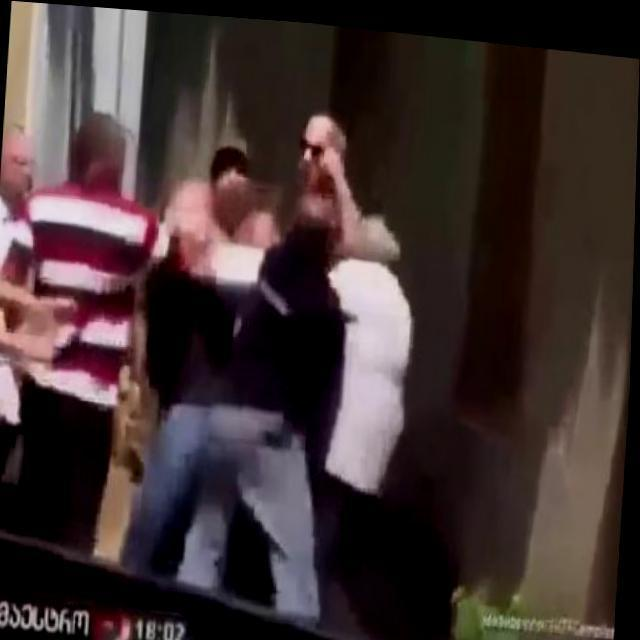fight: (141, 92, 424, 594)
